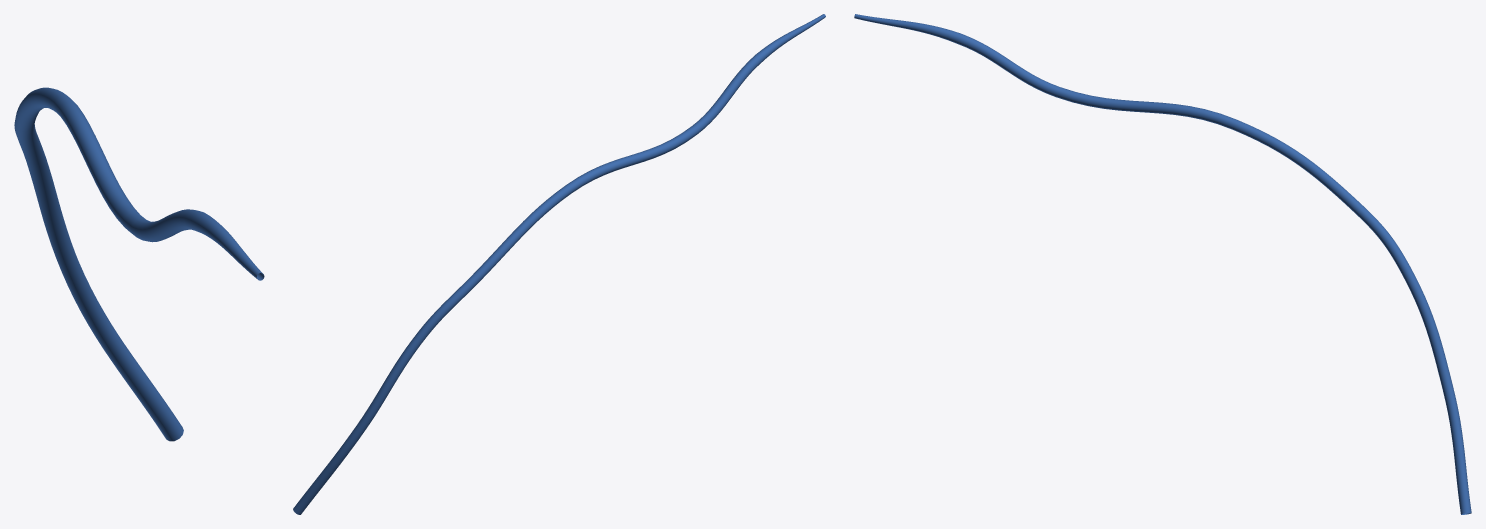
3 renders of one model, left to right at view 1: azimuth 30°, elevation 25°; view 2: azimuth 150°, elevation 25°; view 3: azimuth 270°, elevation 25°, orthographic. The views are drawn at different scales.
Visible parts, largest first — view 1: 右侧耳后静脉; view 2: 右侧耳后静脉; view 3: 右侧耳后静脉.
Boxes of the visible parts, x1,y1,x2,y2 form: 右侧耳后静脉: (14,87,264,441); 右侧耳后静脉: (293,14,825,514); 右侧耳后静脉: (854,14,1471,514).
Size of the model in its own units: 0.0412 by 0.0558 by 0.083.
